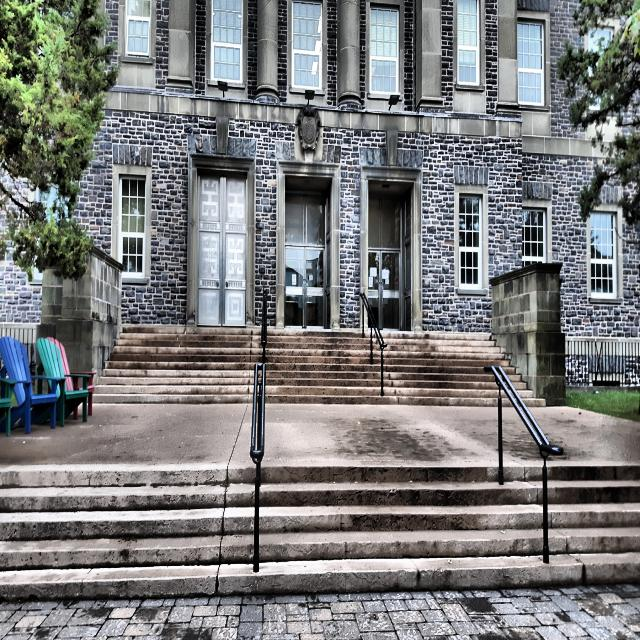escada: (0, 459, 640, 608), (92, 320, 543, 409)
